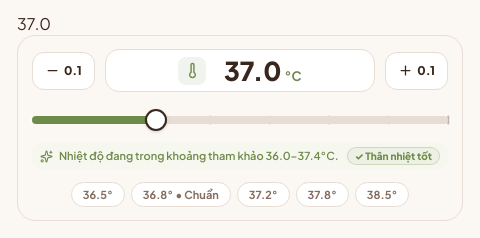
Test case: HavenTemperatureInput › adjusts temperature by +-0.1 with stepper buttons
Click the button named "Tăng 0.1°C": (417, 71) [385,52,448,90]
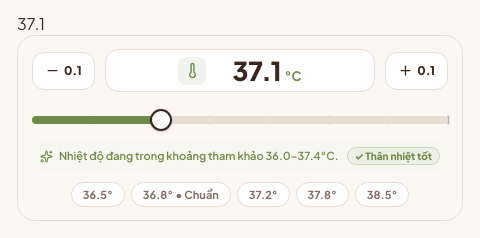
Expected: the text with test id "temp-output" reads "37.1", [17,13,45,34]
Click the button named "Giảm 0.1°C": (63, 71) [32,52,95,90]
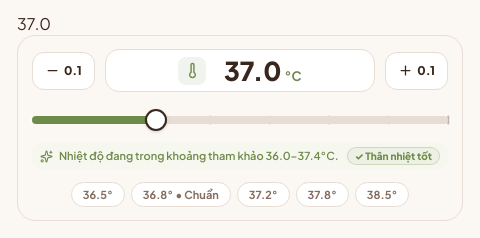
Expected: the text with test id "temp-output" reads "37.0", [17,13,51,34]
